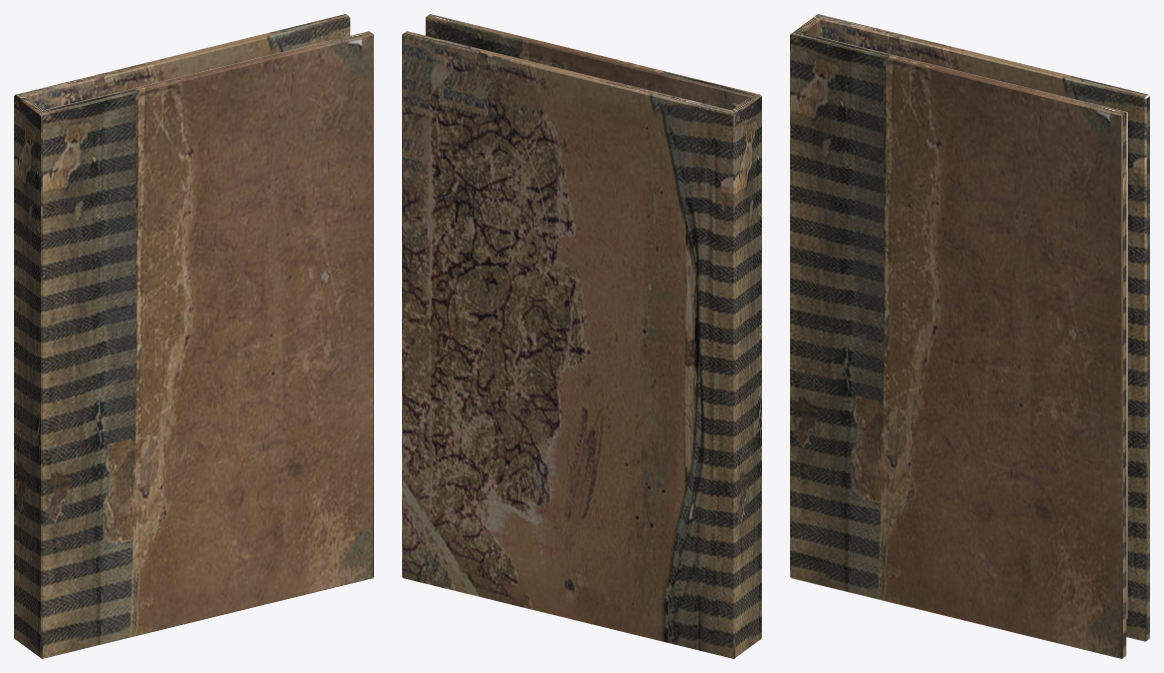
Rendered from bookLight.fbx.
3 views of the same model, side by side, from view 1: azimuth 30°, elevation 25°; view 2: azimuth 150°, elevation 25°; view 3: azimuth 330°, elevation 25° (orthographic).
Visible parts, largest first — view 1: Cube; view 2: Cube; view 3: Cube.
Part boxes in pixels (x1,y1,x2,y2): Cube: [14, 14, 373, 658]; Cube: [402, 14, 761, 658]; Cube: [790, 14, 1149, 658].
Size of the model in its own units: 138 by 216 by 20.23.
Materials: 1 (1 with a texture image).
